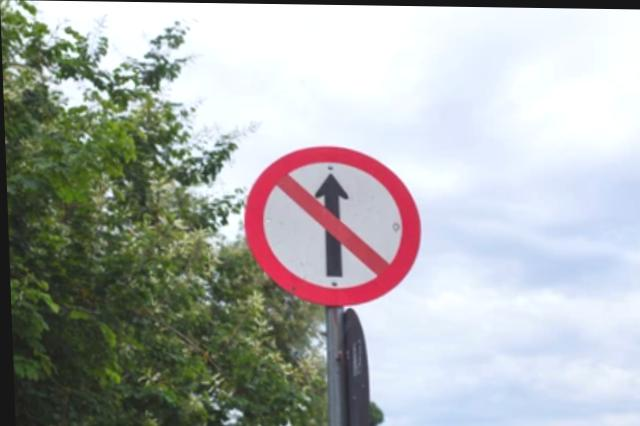not_go_straight: (241, 140, 425, 304)
